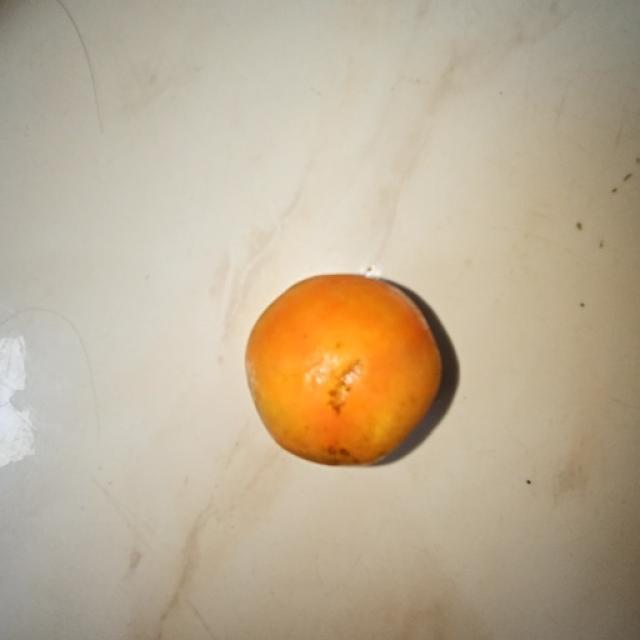Red: (243, 271, 443, 466)
